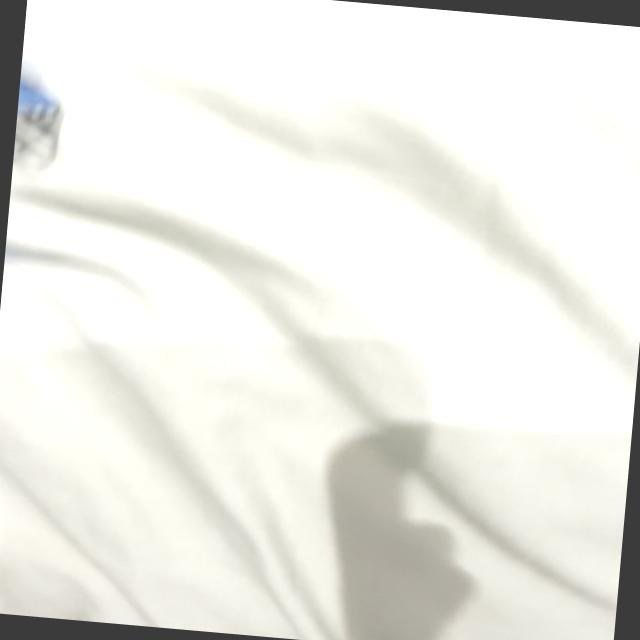mbot-detection: (11, 52, 74, 189)
